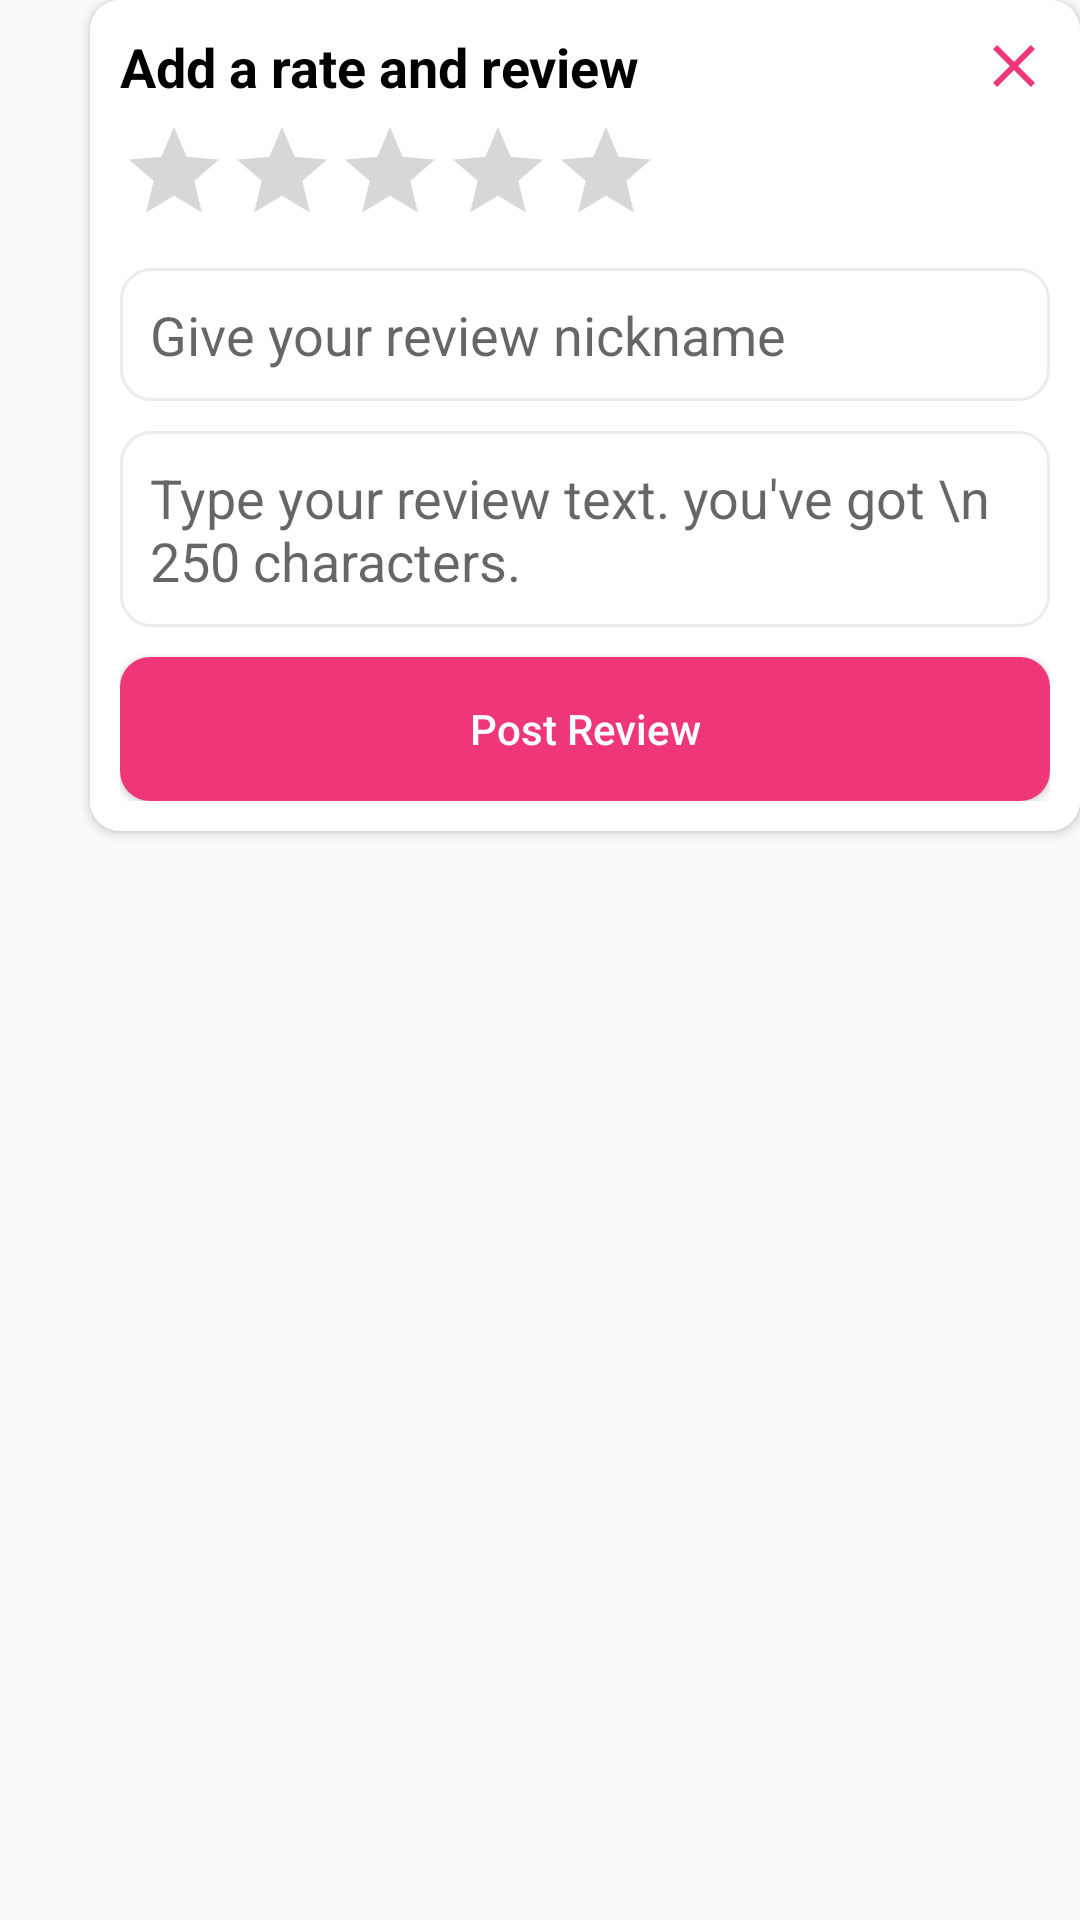

Screen size 1080*1920. Icon name, then its center in pixels as point (x, y):
close: point (1014, 66)
